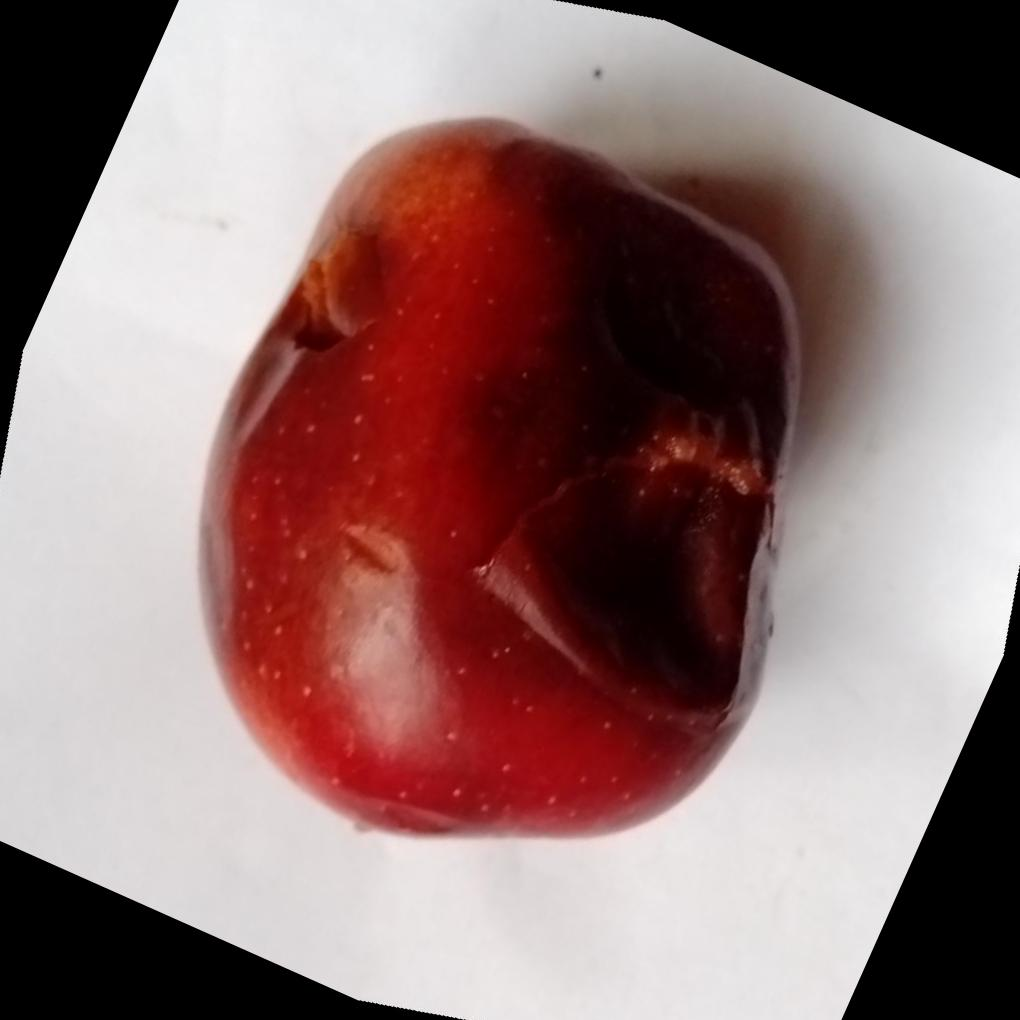FreshOrange: (194, 116, 803, 844)
